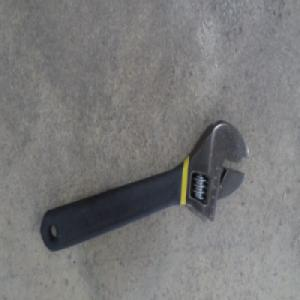AdjustableWrench: (39, 120, 247, 254)
